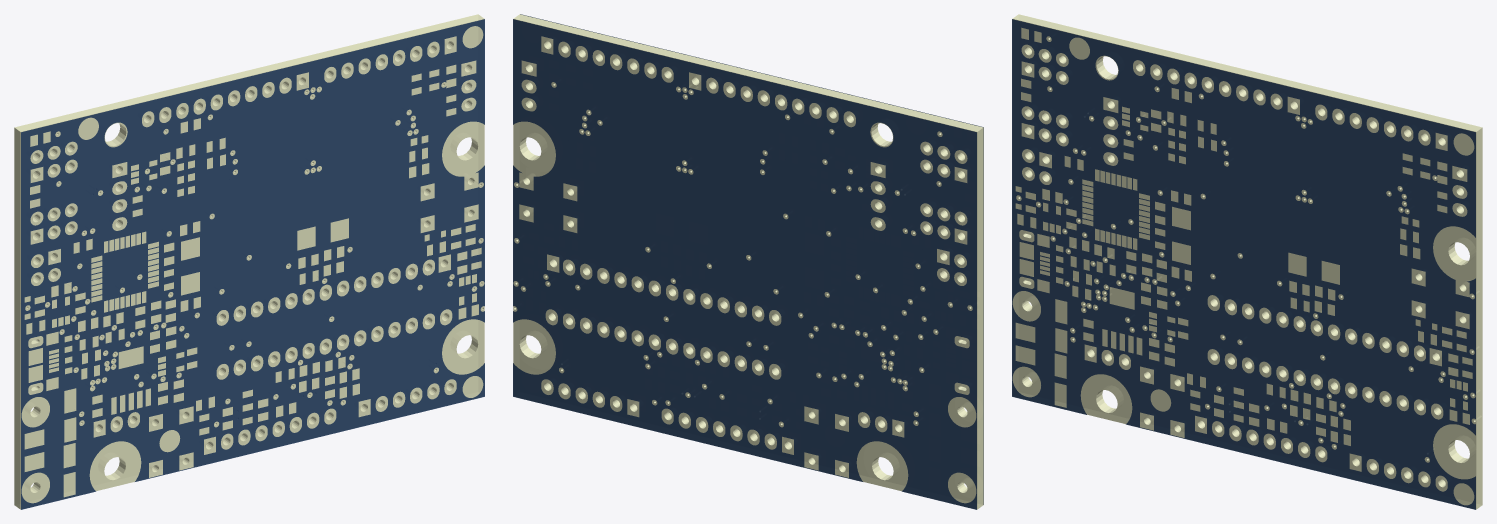
Rendered from 28Pins_Project_1.1_PCB.obj.
3 views of the same model, side by side, from view 1: azimuth 30°, elevation 25°; view 2: azimuth 150°, elevation 25°; view 3: azimuth 330°, elevation 25° (orthographic).
Visible parts, largest first — view 1: Solder_Top, Core; view 2: Solder_Bottom, Core, Solder_Top; view 3: Solder_Top, Core.
Boxes of the visible parts, bbox=[...] form: Solder_Top: bbox=[21, 19, 484, 509]; Core: bbox=[14, 14, 484, 509]; Solder_Bottom: bbox=[513, 19, 976, 509]; Core: bbox=[513, 14, 983, 509]; Solder_Top: bbox=[520, 14, 983, 504]; Solder_Top: bbox=[1012, 19, 1475, 509]; Core: bbox=[1012, 14, 1482, 509].
Size of the model in its own units: 6.86 by 5.33 by 0.1784.
